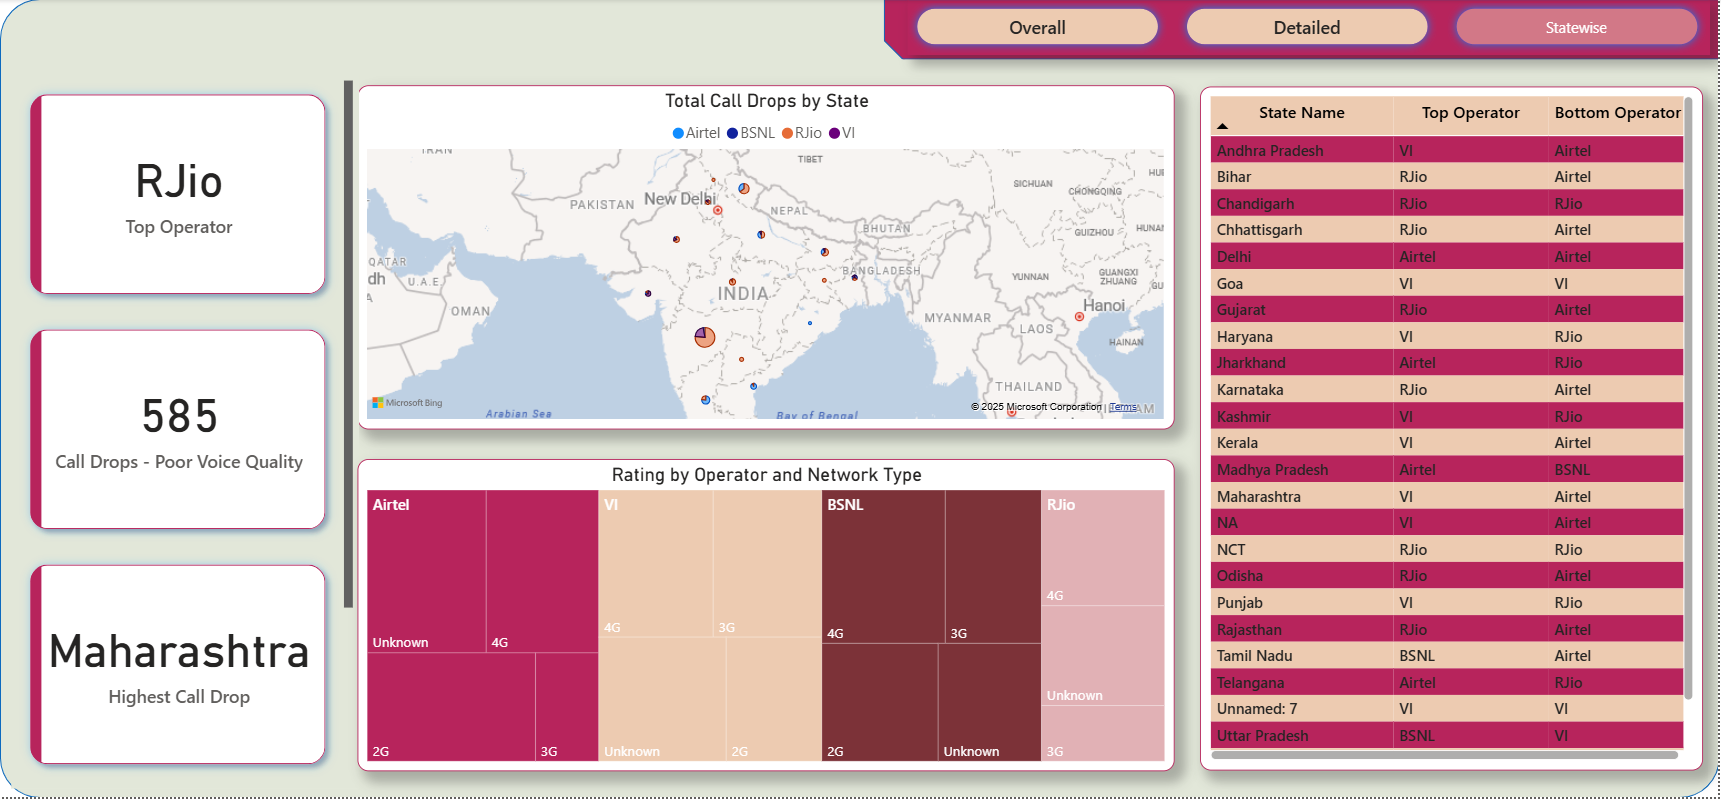

The dashboard page shown, as its layout file describes it:
{"tool":"powerbi","page":{"name":"Statewise","canvas":[1550,720],"ordinal":2},"visuals":[{"type":"shape","box":[0,0,1550.6,720.6],"z":0,"group":"g1"},{"type":"map","title":"Total Call Drops by State","fields":{"Series":["Final.operator"],"Category":["Final.state_name"],"Size":["Final.Total Call Drops"]},"box":[322.7,77.9,737,310.4],"z":1000,"group":"g1"},{"type":"cardVisual","fields":{"Data":["Final.Best Operator","Final.CallDropsByPoorQuality","Final.HighestCallDropState","Final.StateWithHighestCalls"]},"box":[10,68.4,313.5,643.1],"z":2000,"group":"g1"},{"type":"shape","box":[797,0,753.4,54.7],"z":3000,"group":"g2"},{"type":"treemap","title":"Rating by Operator and Network Type","fields":{"Group":["Final.operator"],"Details":["Final.network_type"],"Values":["Avg(Final.rating)"]},"box":[322.7,414.3,737,281.7],"z":3000,"group":"g1"},{"type":"tableEx","fields":{"Values":["Final.state_name","Final.Top Operator in State","Final.Bottom Operator in State"]},"box":[1081.6,79.3,454,616.7],"z":4000,"group":"g1"},{"type":"group","id":"g1","title":"Group 2","box":[0,0,1550.6,720.6],"z":6001},{"type":"group","id":"g2","title":"Group 1","box":[797,0,753.3,55],"z":6501},{"type":"pageNavigator","box":[818.9,0,723.3,50.6],"z":8001,"group":"g2"}]}

Visuals, with their boxes in screenshot pixels (x1, y1, x2, y2), scaled from the page's 1550x720 canvas onto the 1721x801 screenshot:
shape: <box>0,0,1720,800</box>
"Total Call Drops by State" map: <box>358,87,1177,432</box>
cardVisual - Final.Best Operator x Final.CallDropsByPoorQuality: <box>11,76,359,792</box>
shape: <box>885,0,1720,61</box>
"Rating by Operator and Network Type" treemap: <box>358,461,1177,774</box>
tableEx - Final.state_name x Final.Top Operator in State: <box>1201,88,1705,774</box>
"Group 2" group: <box>0,0,1720,800</box>
"Group 1" group: <box>885,0,1720,61</box>
pageNavigator: <box>909,0,1712,56</box>
